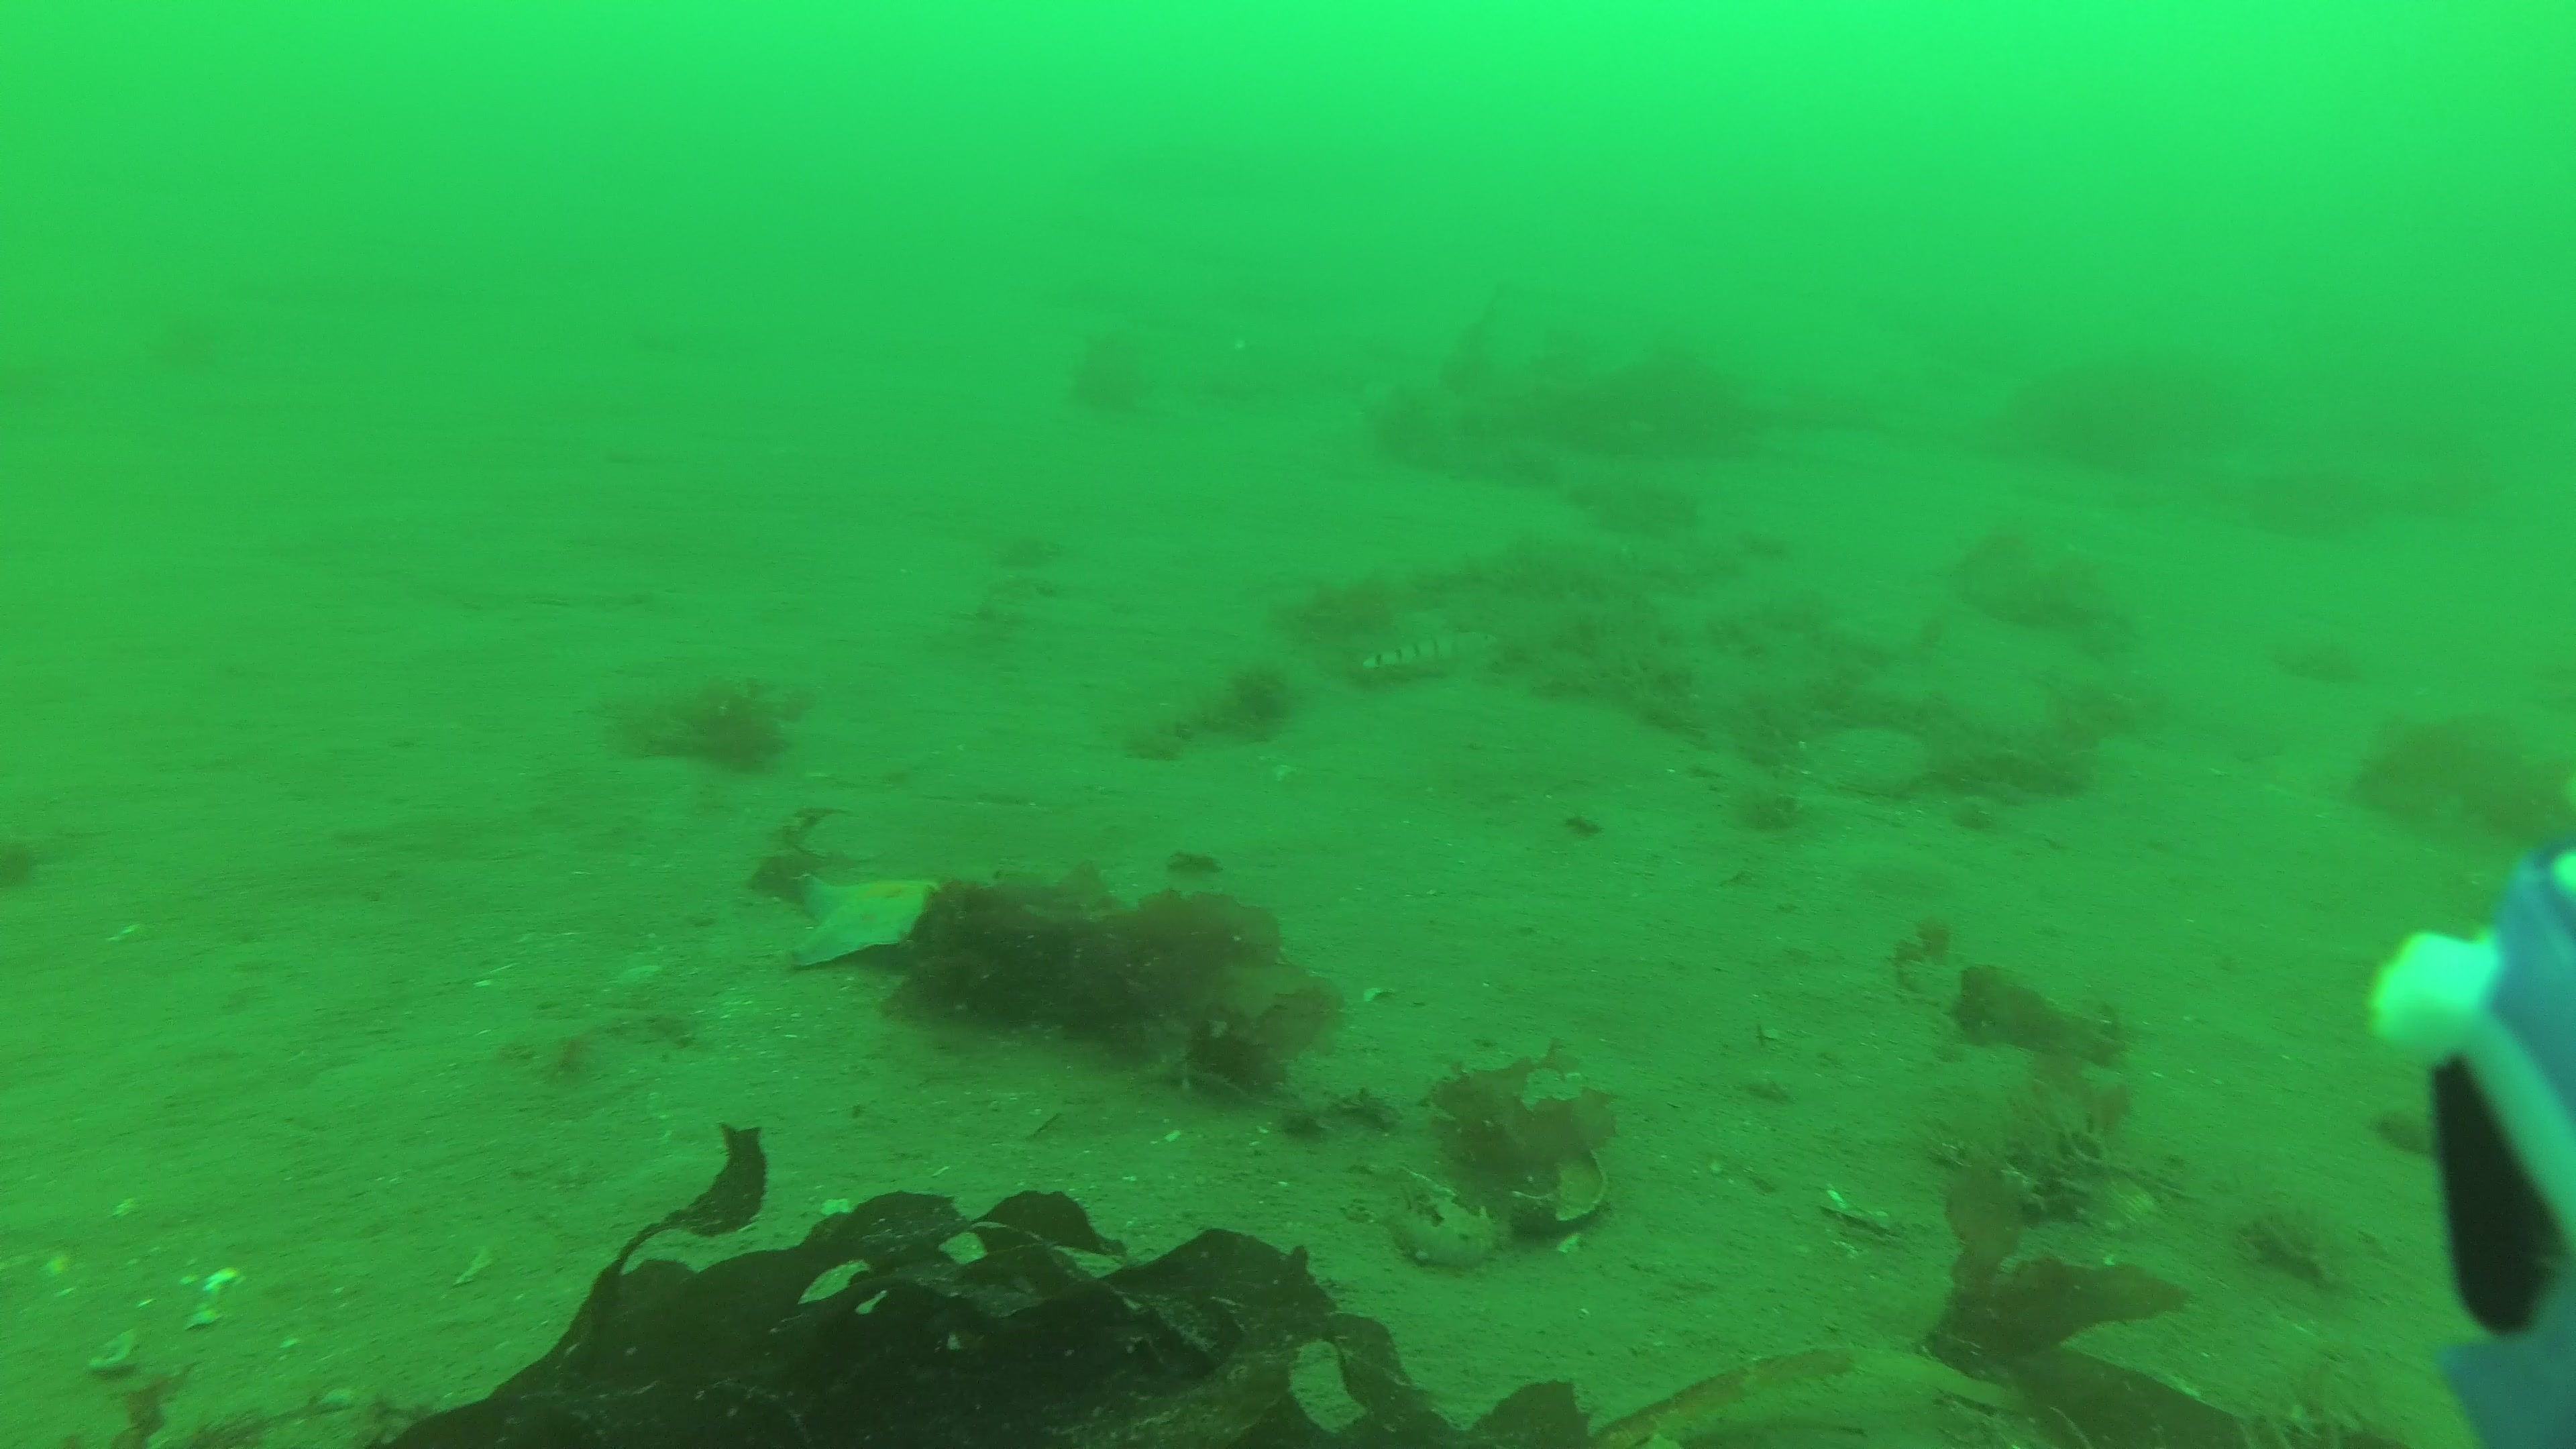starfish: (784, 860, 952, 975)
